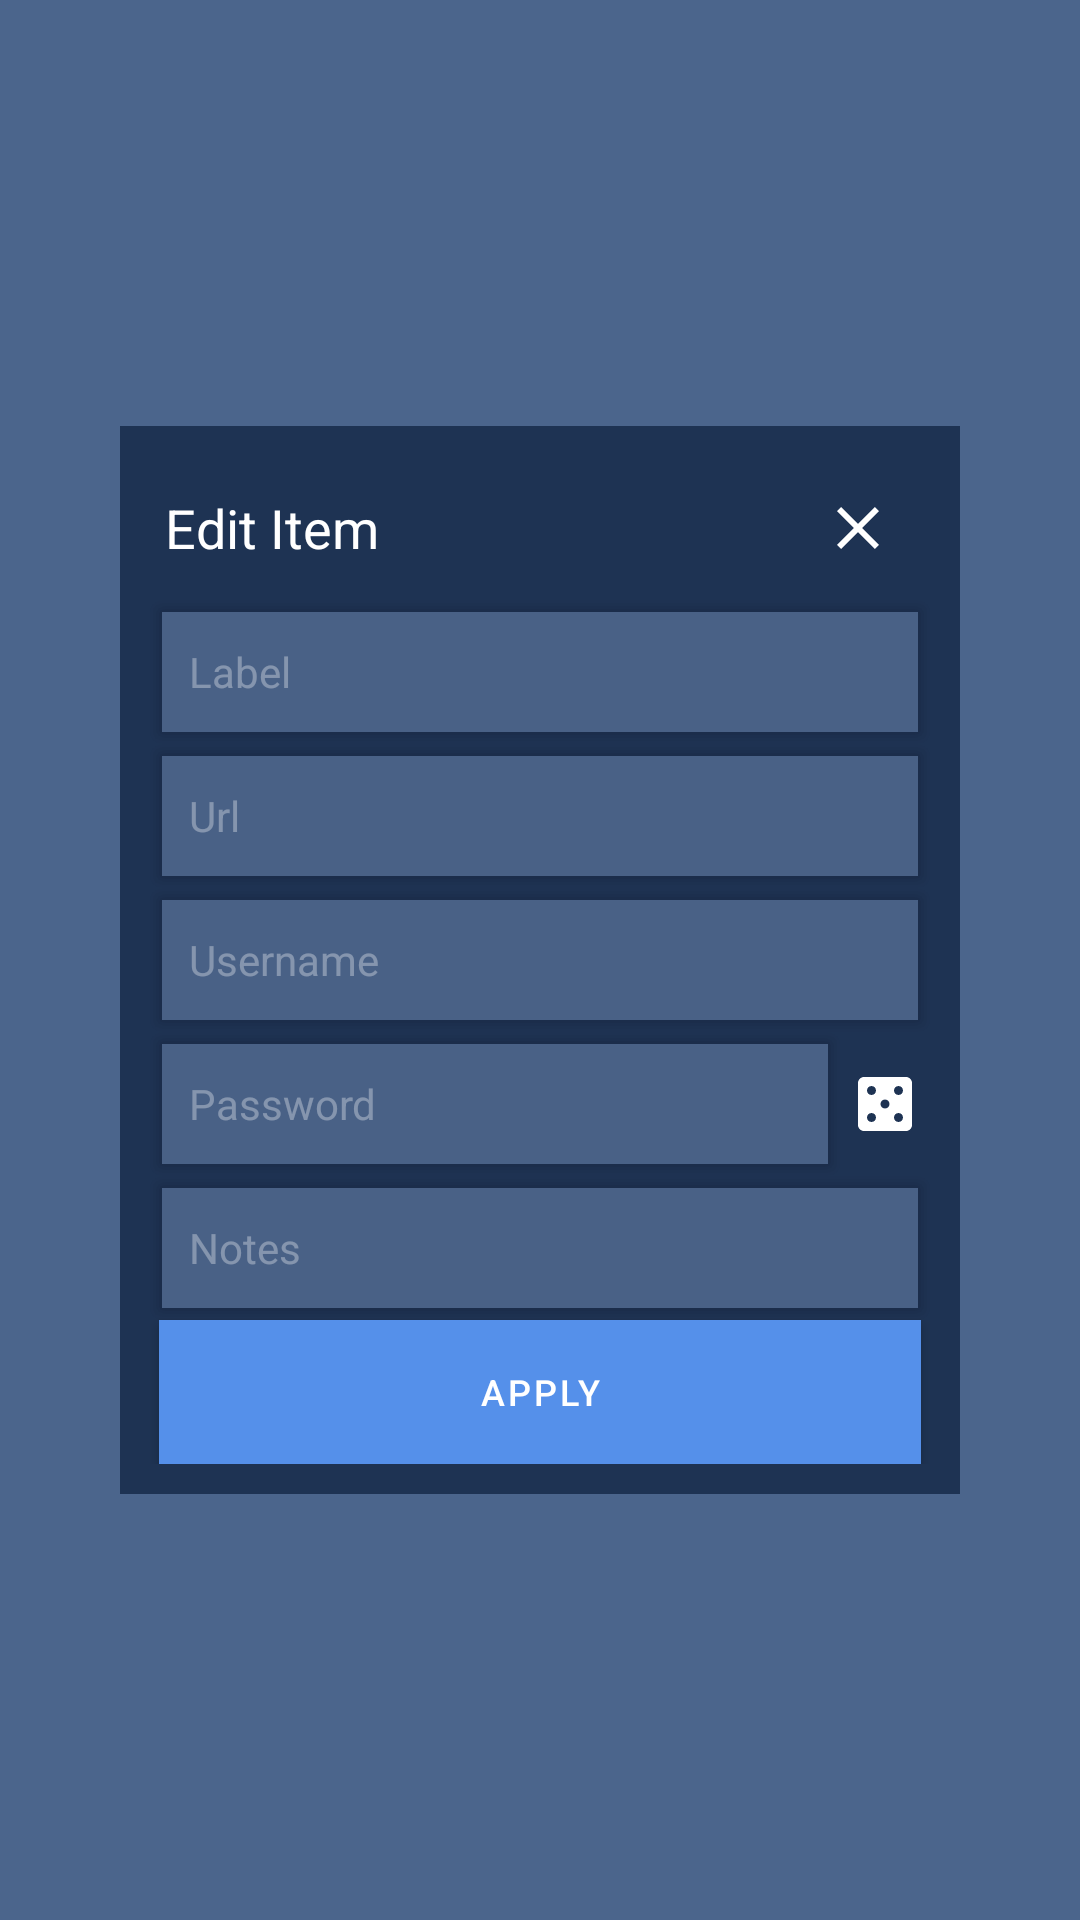

Icons on this 1080px×1920px Android screen, each with its box as (x1, y1, x2, y2):
Close Popup: (837, 507, 879, 549)
dice: (858, 1077, 912, 1131)
